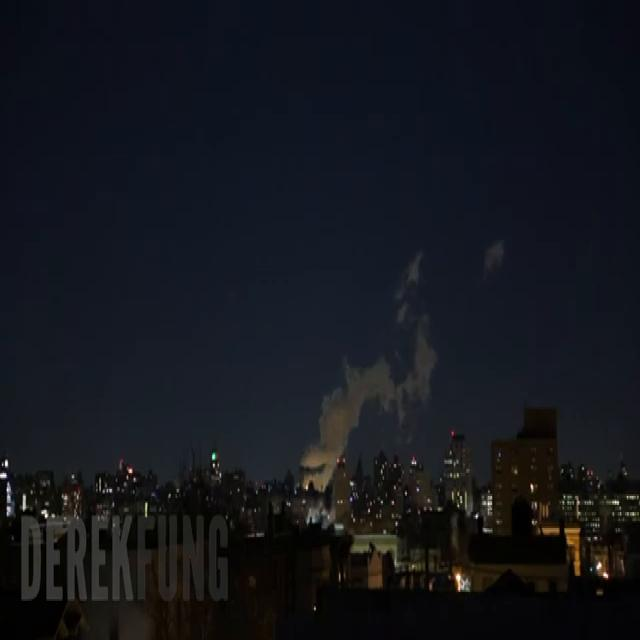smoke: (301, 315, 436, 489)
